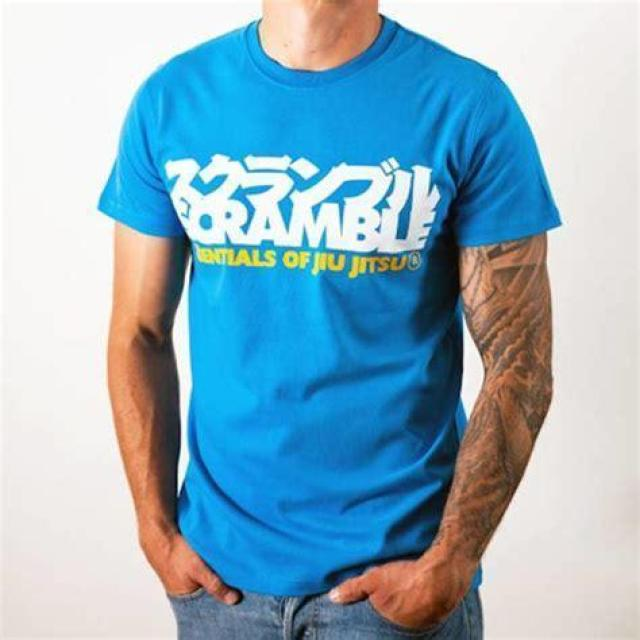Tshirt: (97, 17, 563, 599)
